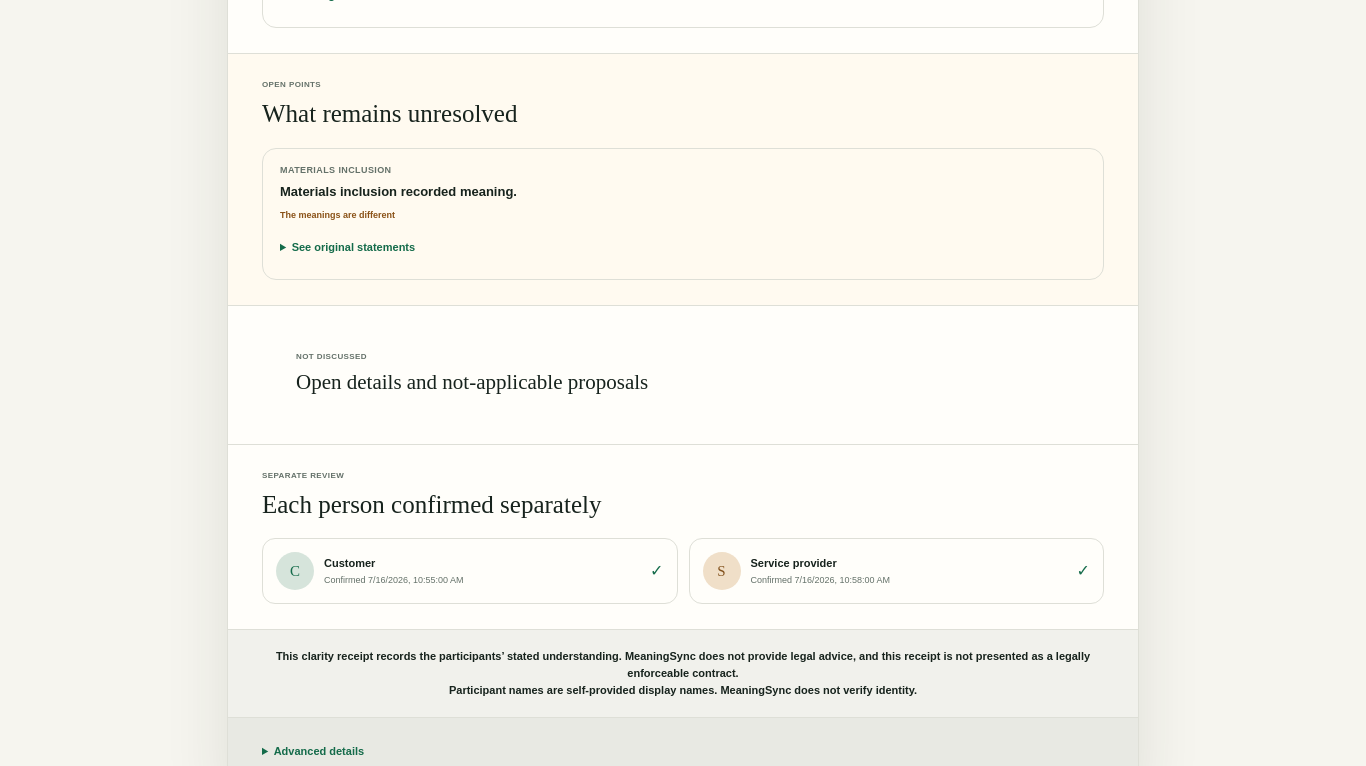
Scenario: ClarityReceiptView › names each not-applicable detail and who marked it
(page scrolled)
Click the text "Open details and not-applicable proposals".
click(472, 382)  # box left=296, top=370, right=648, bottom=394
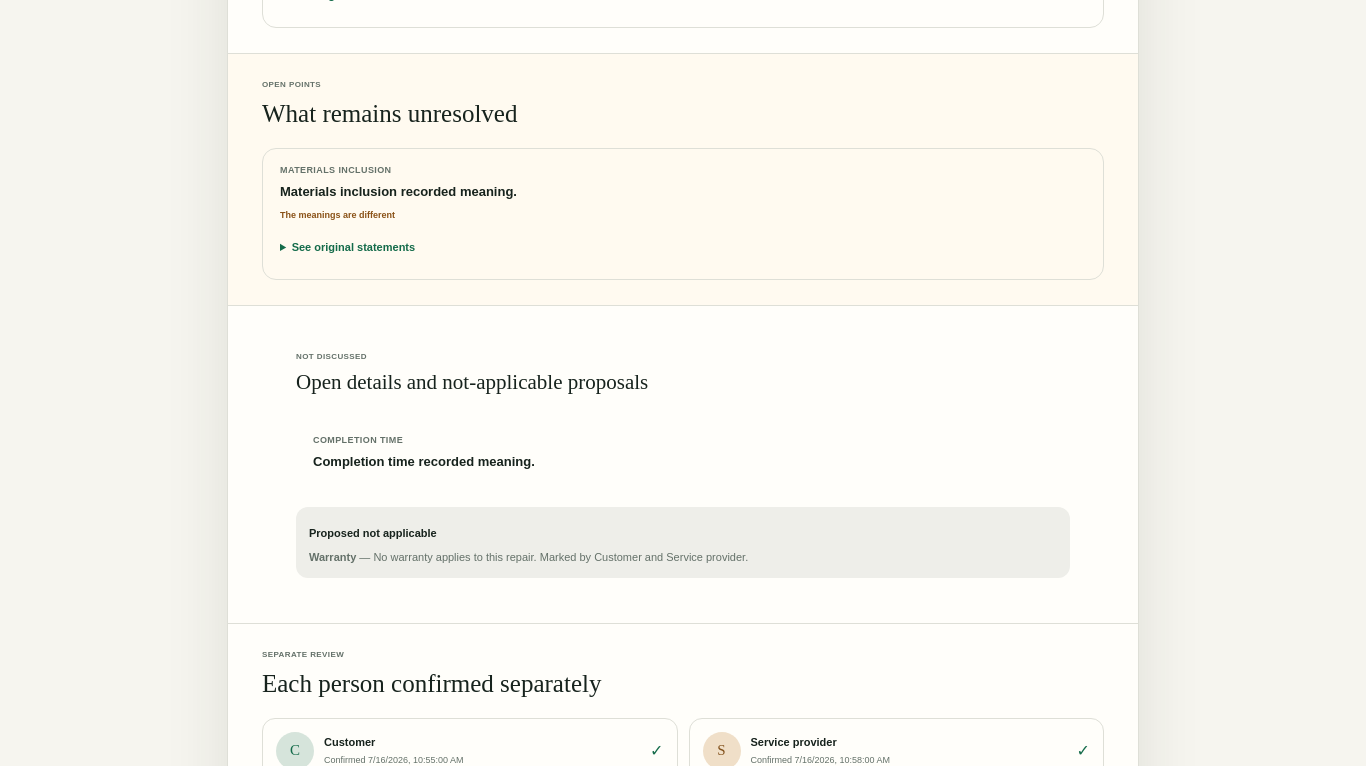
Check: the text "Warranty" is shown, box left=309, top=550, right=356, bottom=562
